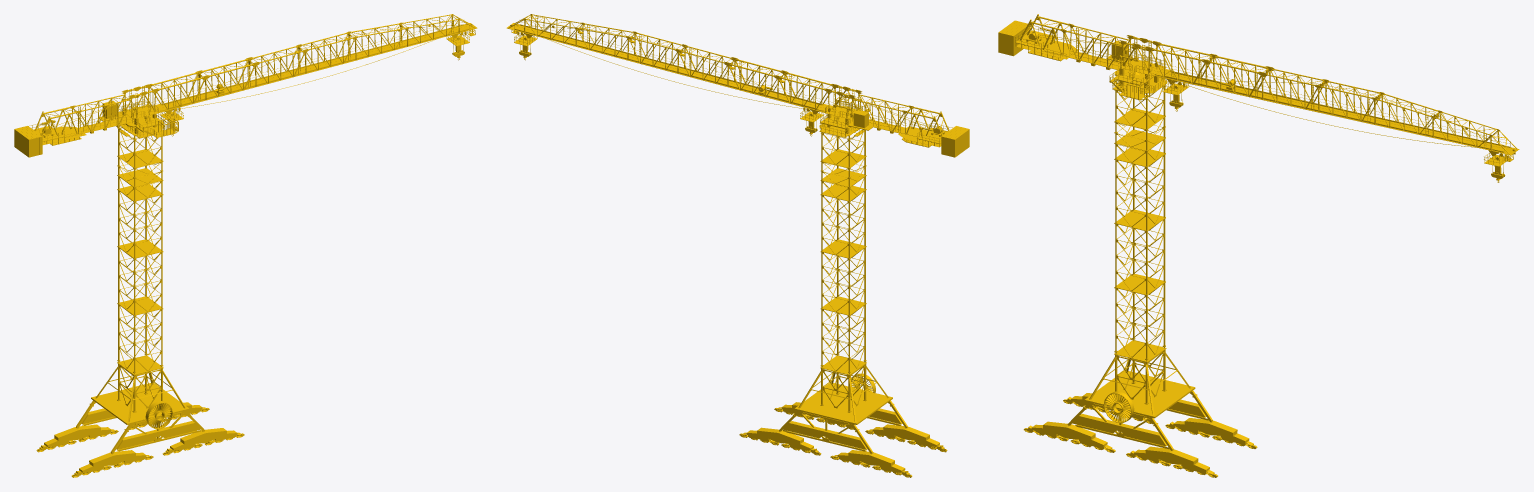
Rendered from TTC-28.glb.
The picture shows the model from 3 angles, left to right: view 1: azimuth 30°, elevation 25°; view 2: azimuth 150°, elevation 25°; view 3: azimuth 330°, elevation 25°; orthographic projection. The views are drawn at different scales.
Parts seen in each view (by area): view 1: 개체_3, 개체_1; view 2: 개체_3, 개체_1; view 3: 개체_3, 개체_1.
Part boxes in pixels (x1,y1,x2,y2): 개체_3: (36,117,244,477); 개체_1: (14,14,477,157); 개체_3: (739,117,947,477); 개체_1: (506,14,969,157); 개체_3: (1023,72,1257,477); 개체_1: (998,14,1519,182).
Size of what is drawn, in the model's own units: 99.65 by 75.48 by 15.08.
